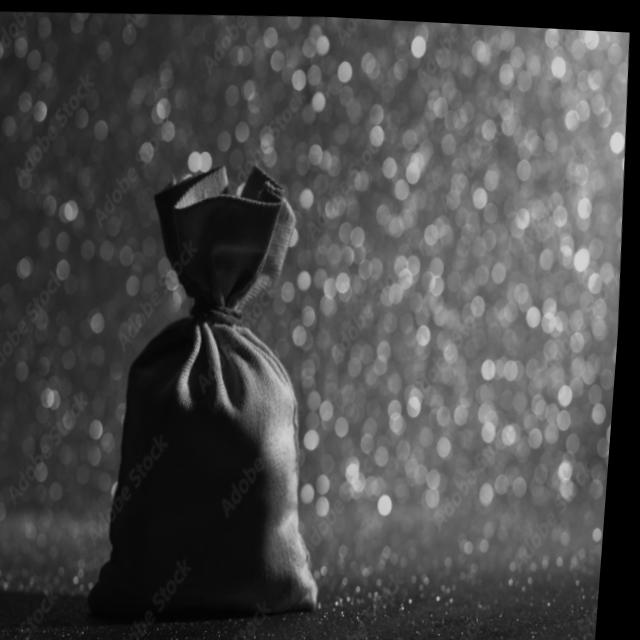sack: (79, 152, 353, 624)
